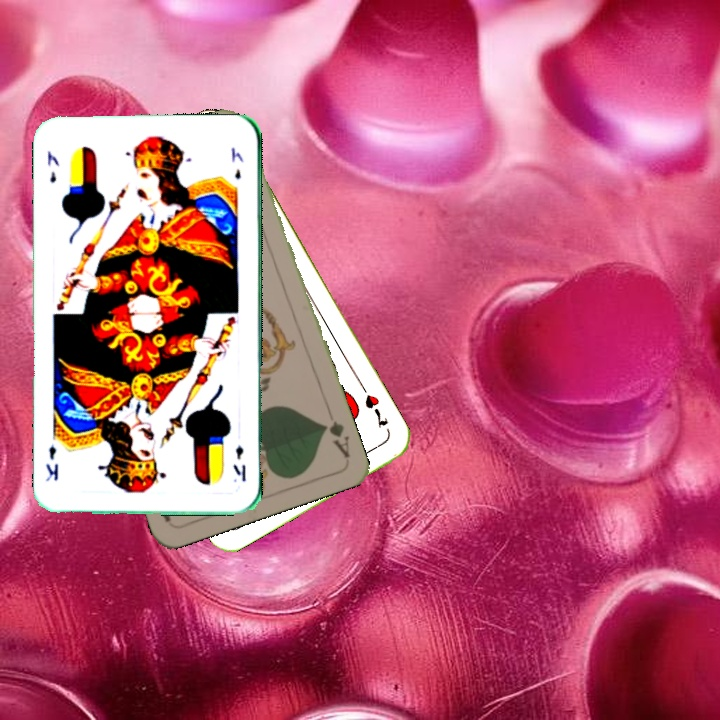EK: (229, 441, 249, 484), (44, 146, 62, 185)
GA: (318, 416, 353, 461)
H7: (360, 390, 391, 431)
